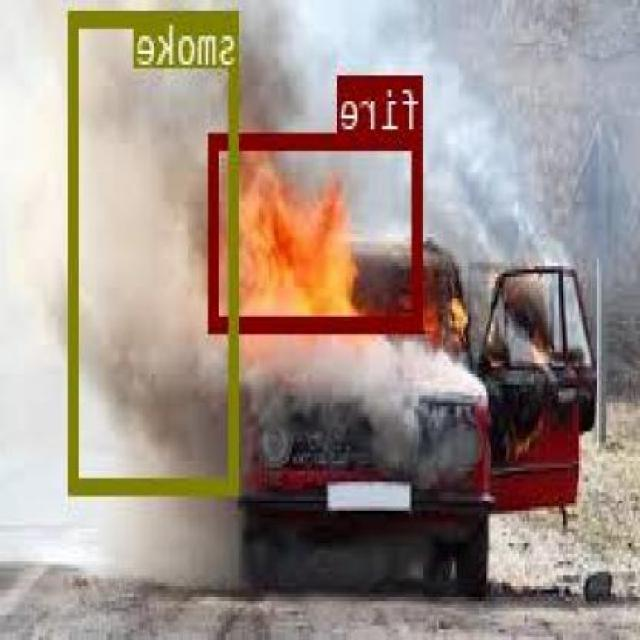Fire: (212, 129, 425, 331)
Smoke: (71, 10, 240, 492)
